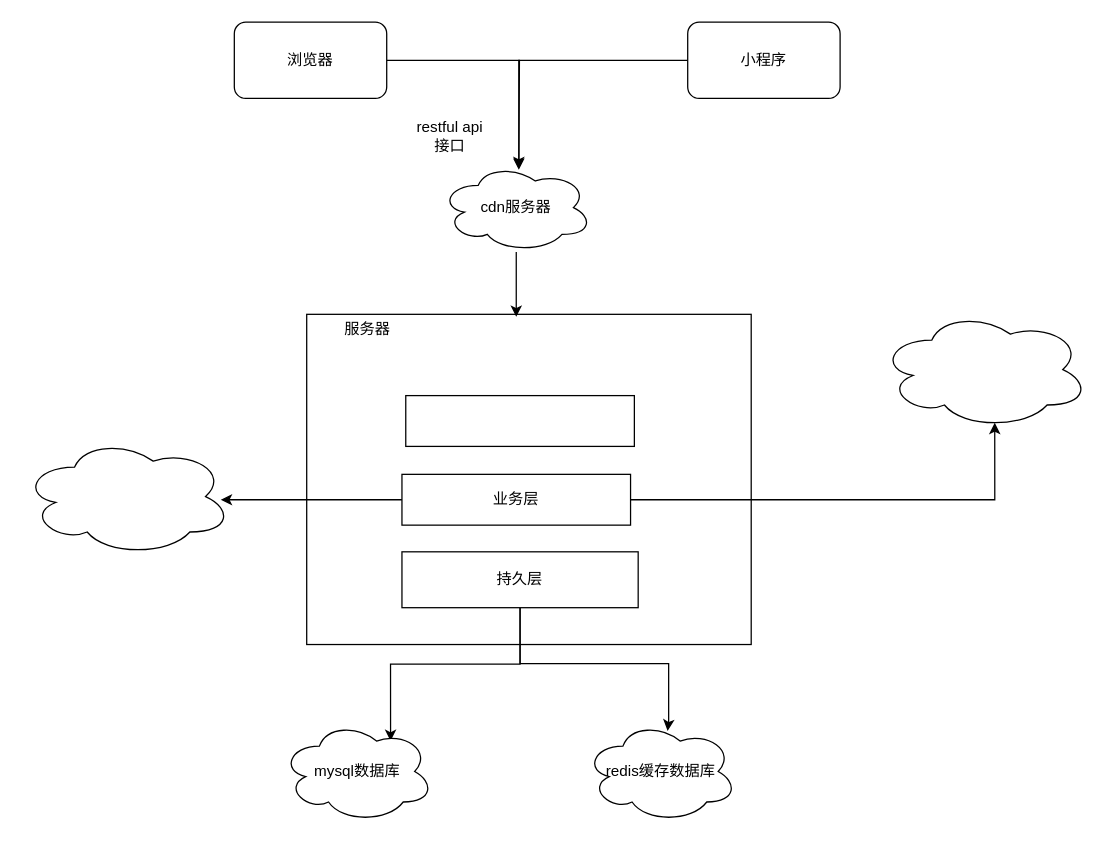
Some shapes in this 1111 by 845 pixel diagram are drawn without their labels. The shapes that lost their labels are listed below. From the top down, each one's centre as x and y in pixels, then its label:
[983,369]: 腾讯云人脸识别服务
[519,420]: 表示层
[126,496]: 腾讯云短信服务
